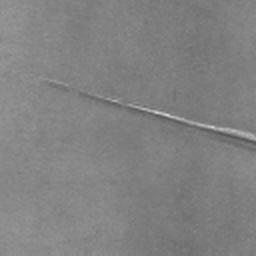Finishing roll printing: (79, 88, 255, 142), (40, 77, 69, 91)
